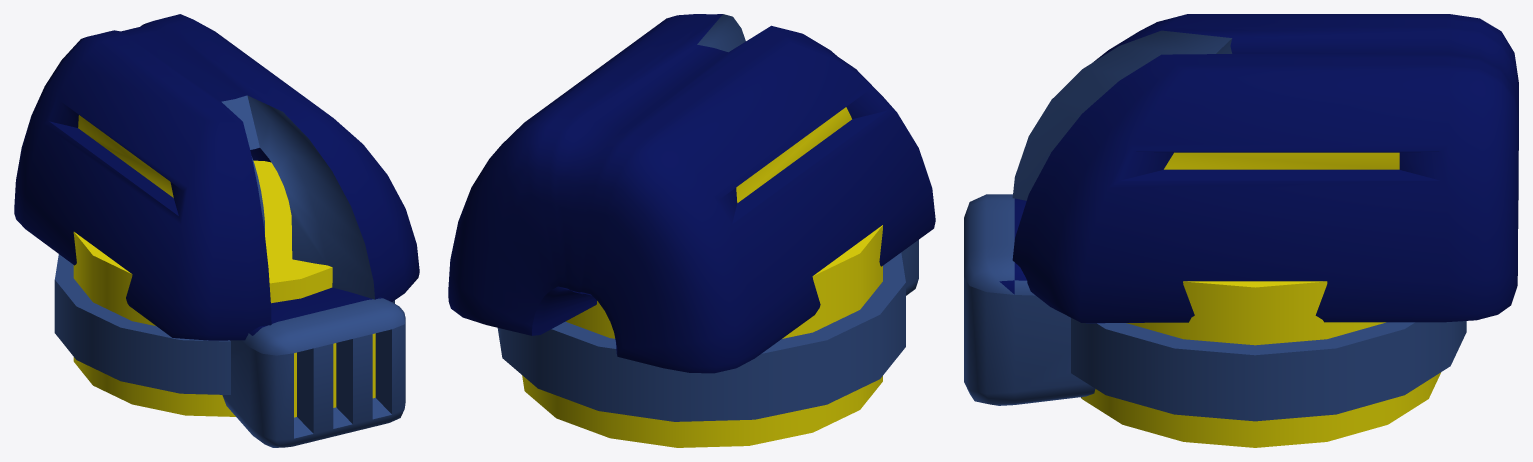
File: Station_Cannon_Howitzer_Head.FBX
3 views of the same model, side by side, from view 1: azimuth 30°, elevation 25°; view 2: azimuth 150°, elevation 25°; view 3: azimuth 270°, elevation 25° (orthographic). The views are drawn at different scales.
Visible parts, largest first — view 1: Station_Cannon_Howitzer_Head; view 2: Station_Cannon_Howitzer_Head; view 3: Station_Cannon_Howitzer_Head.
Part boxes in pixels (box(x1,y1,x2,y2)): Station_Cannon_Howitzer_Head: box(14, 14, 419, 447); Station_Cannon_Howitzer_Head: box(448, 14, 935, 447); Station_Cannon_Howitzer_Head: box(964, 14, 1518, 447).
Size of the model in its own units: 11.15 by 9.56 by 14.63.
